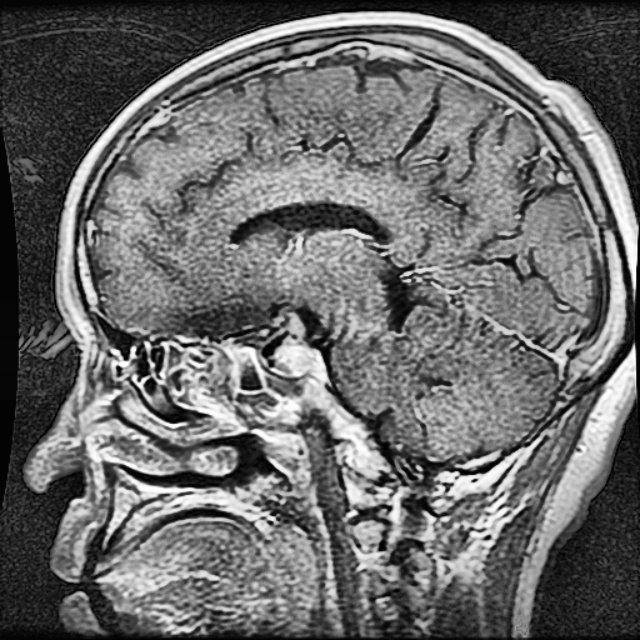Pituitary: (270, 333, 328, 380)
